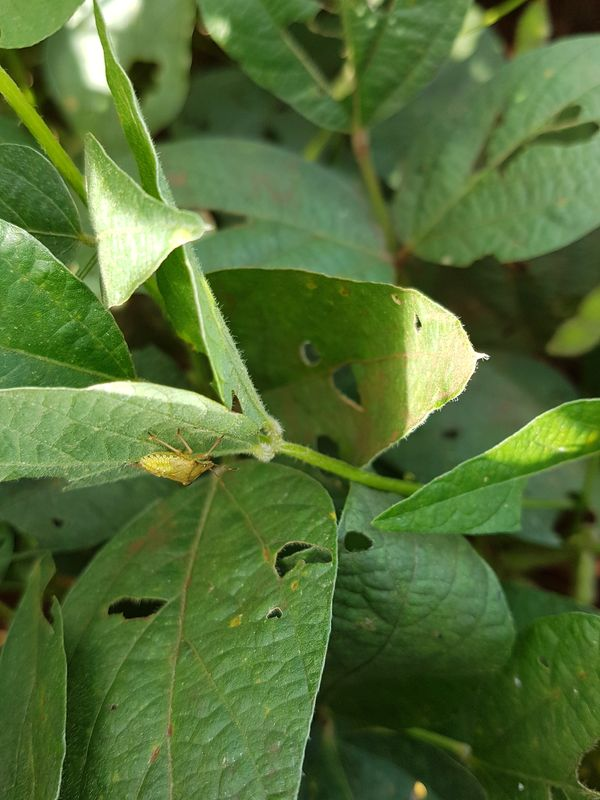Euschistus_heros_ninfa: (125, 425, 235, 506)
